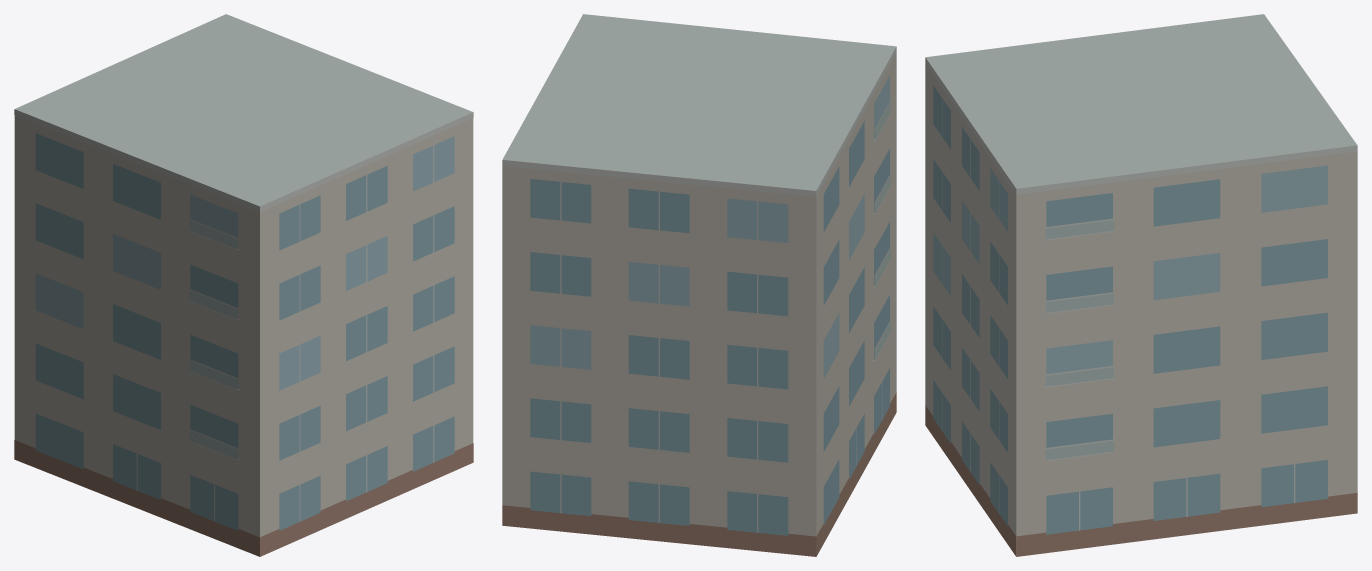
Rendered from survey-upis-32864006.glb.
3 views of the same model, side by side, from view 1: azimuth 30°, elevation 25°; view 2: azimuth 150°, elevation 25°; view 3: azimuth 270°, elevation 25° (orthographic). The views are drawn at different scales.
Parts seen in each view (by area): view 1: survey-upis-32864006.tmp; view 2: survey-upis-32864006.tmp; view 3: survey-upis-32864006.tmp.
Part boxes in pixels (x1,y1,x2,y2): survey-upis-32864006.tmp: (14,14,473,556); survey-upis-32864006.tmp: (502,14,896,556); survey-upis-32864006.tmp: (925,14,1357,556).
Size of the model in its own units: 14.99 by 14.7 by 15.65.
